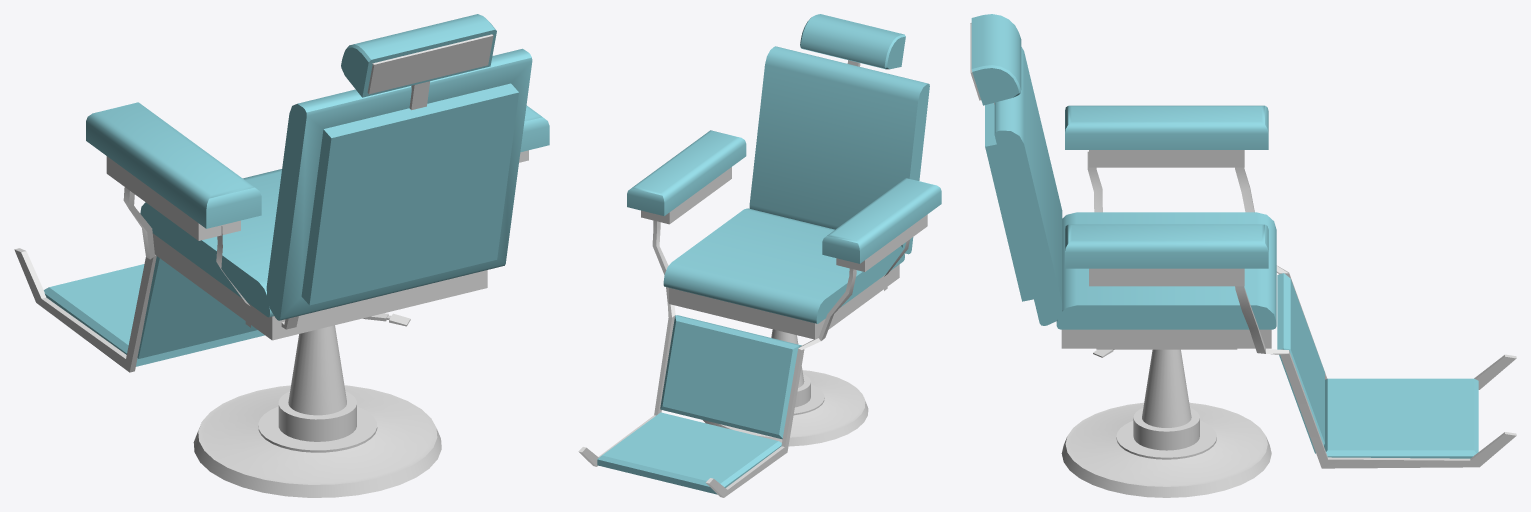
The model's file is Barbershop Chair 01.fbx.
3 renders of one model, left to right at view 1: azimuth 30°, elevation 25°; view 2: azimuth 150°, elevation 25°; view 3: azimuth 270°, elevation 25°, orthographic. The views are drawn at different scales.
Visible parts, largest first — view 1: Barber Chair; view 2: Barber Chair; view 3: Barber Chair.
Boxes of the visible parts, x1,y1,x2,y2 form: Barber Chair: (14, 14, 549, 497); Barber Chair: (578, 14, 941, 497); Barber Chair: (970, 14, 1516, 497).
Size of the model in its own units: 198 by 270 by 323.
